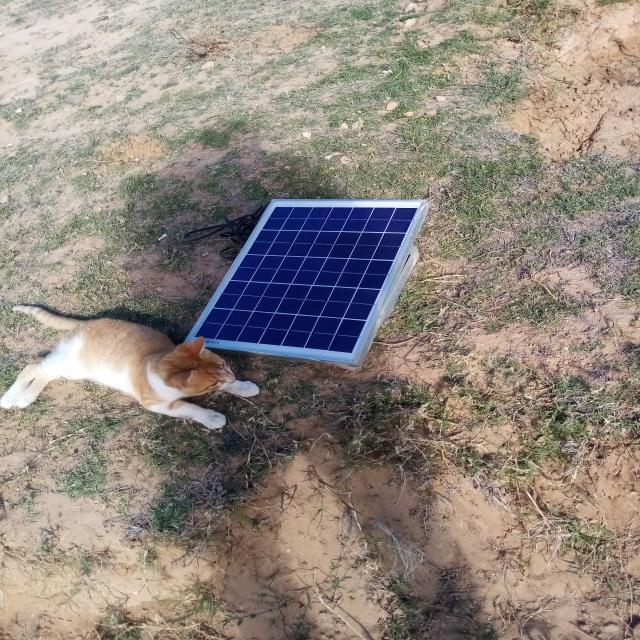no faulty: (185, 200, 426, 364)
